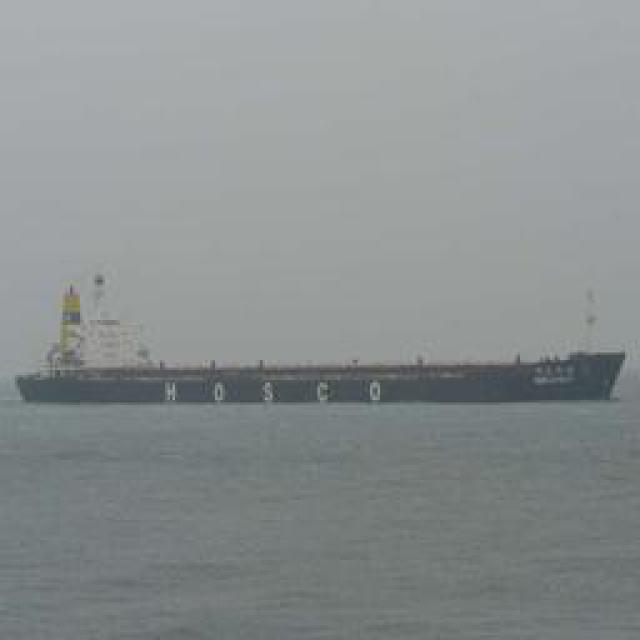Ship: (17, 345, 627, 408)
